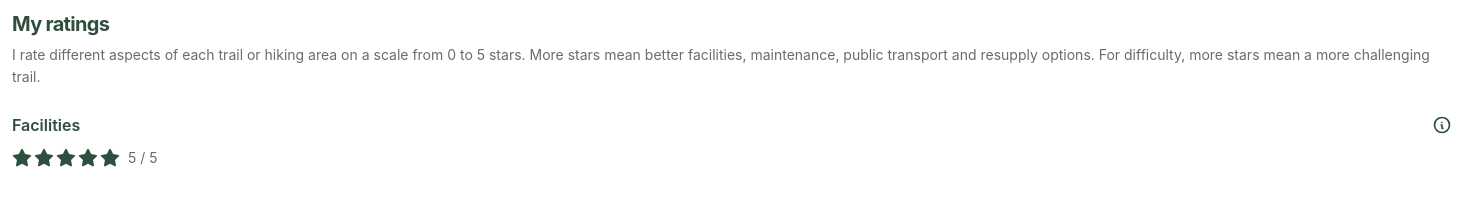
Test: rating information animates when the info icon is clicked
This screenshot has width=1464, height=218.
Later steps or results of the test are not shown.
Click the 1st icon: [1442, 125] box [1432,115,1452,135]
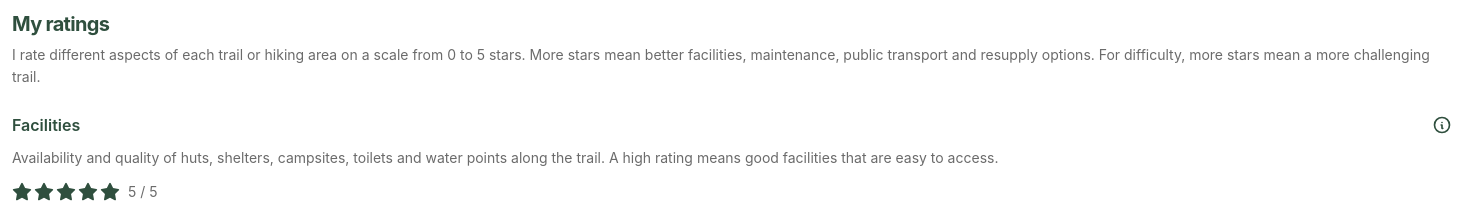
Now the element that starts with "Facilities" has attribute open, box [12,103,1452,181]
